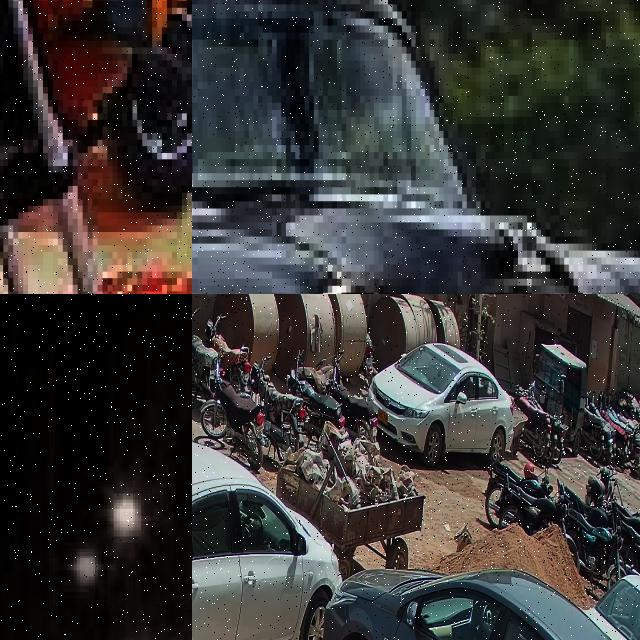bike: (0, 0, 192, 294), (200, 348, 269, 470), (249, 356, 305, 464), (286, 349, 345, 449), (484, 456, 550, 528), (497, 473, 568, 535), (325, 360, 378, 443), (567, 502, 623, 577), (204, 314, 250, 395), (192, 306, 223, 405), (515, 384, 551, 462), (562, 479, 616, 529), (298, 352, 344, 396), (585, 467, 616, 507), (620, 519, 640, 578), (584, 408, 605, 460), (618, 500, 640, 538)
car: (192, 0, 640, 294), (0, 462, 192, 640), (192, 441, 341, 640), (318, 569, 640, 640), (368, 343, 514, 466), (588, 575, 640, 640)
